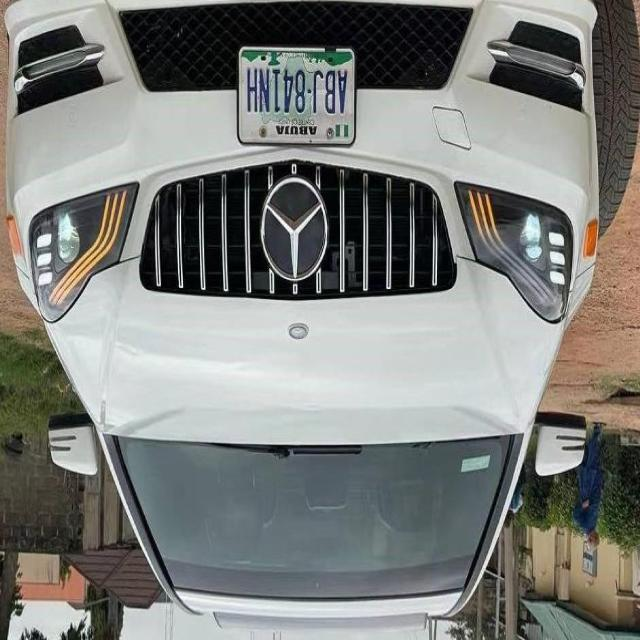Nigerian License Plate - vdataset benjamin-daria: (235, 34, 357, 152)
